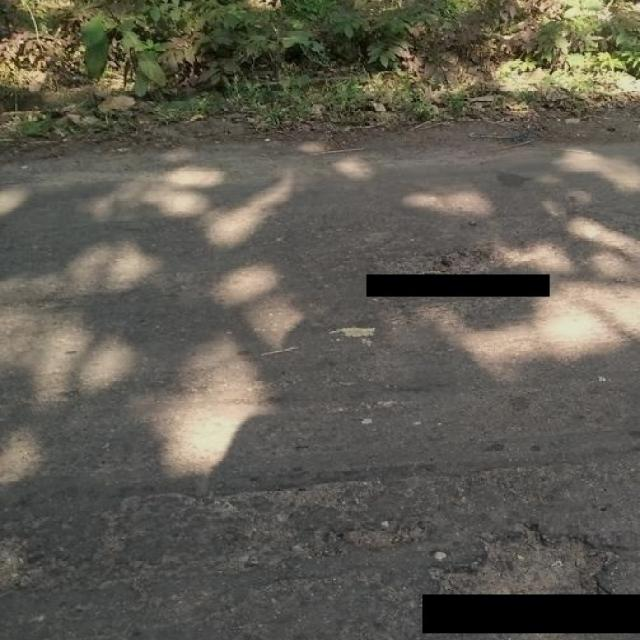road-pothole: (433, 527, 619, 599)
